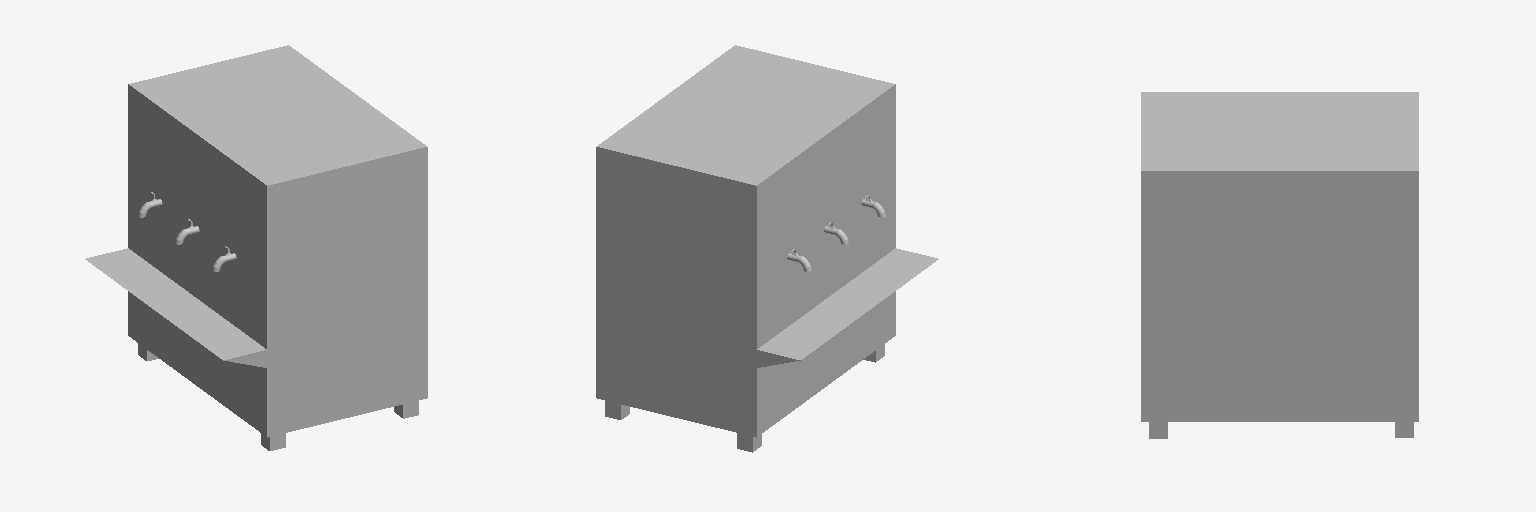
The model's file is bebedouro.obj.
The picture shows the model from 3 angles: view 1: azimuth 30°, elevation 25°; view 2: azimuth 150°, elevation 25°; view 3: azimuth 270°, elevation 25°; orthographic projection.
Visible parts, largest first — view 1: bebedouro; view 2: bebedouro; view 3: bebedouro.
Part boxes in pixels (bbox=[...]): bebedouro: bbox=[85, 45, 427, 450]; bebedouro: bbox=[596, 45, 938, 452]; bebedouro: bbox=[1141, 92, 1418, 438].
Size of the model in its own units: 2.55 by 3.22 by 3.